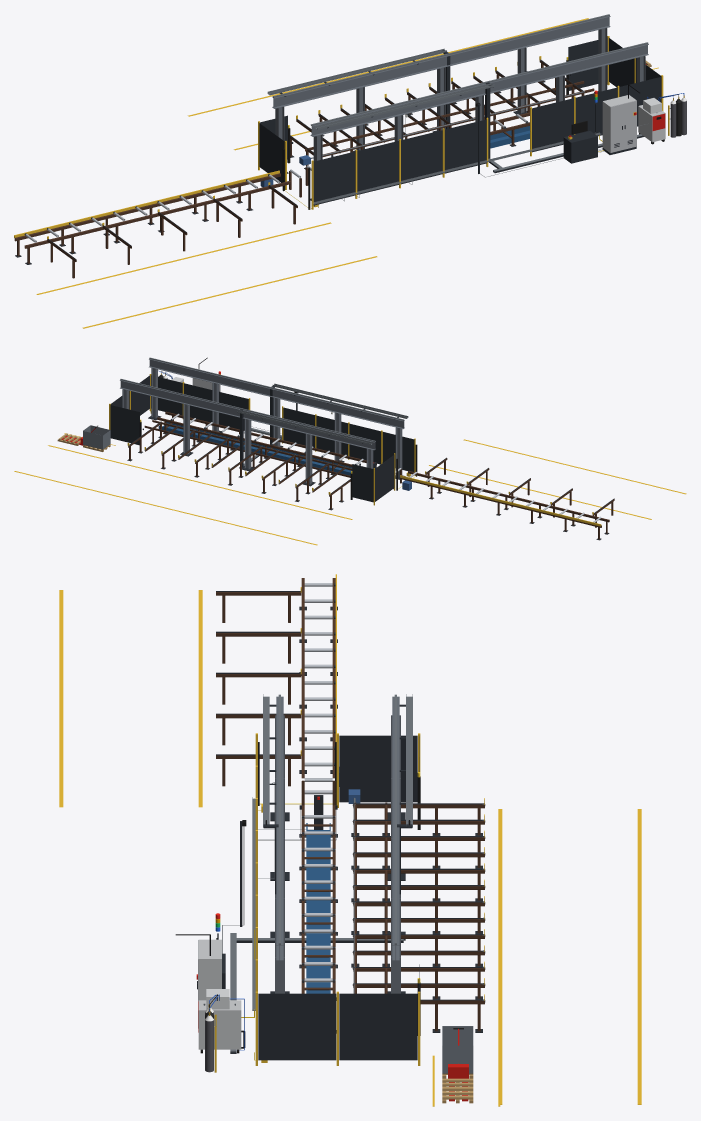
Rendered from cell.glb.
The picture shows the model from 3 angles, top to bottom: view 1: azimuth 30°, elevation 25°; view 2: azimuth 150°, elevation 25°; view 3: azimuth 270°, elevation 25°; orthographic projection. The views are drawn at different scales.
Parts seen in each view (by area): view 1: runway_back, runway_front, fence_mesh, fence_mesh_3, fence_mesh_2, fence_mesh_4, fence_mesh_5, fence_mesh_6, infeed_rail, fence_mesh_10, infeed_rail_2, fence_mesh_9 (+18 smaller); view 2: runway_front, runway_back, fence_mesh_9, fence_mesh, fence_mesh_2, fence_mesh_8, fence_mesh_4, fence_mesh_10, infeed_chain_guard, fence_mesh_5, fence_mesh_7, fence_mesh_3 (+21 smaller); view 3: fence_mesh_12, fence_mesh_11, fence_mesh_10, scrap_tray_floor, runway_front, runway_back, plasma_power_source, floor_marking_2, floor_marking, control_cabinet, floor_marking_3, floor_marking_4 (+4 smaller).
Boxes of the visible parts, x1,y1,x2,y2 form: runway_back: (272, 16, 610, 108); runway_front: (310, 44, 648, 136); fence_mesh: (313, 151, 355, 205); fence_mesh_3: (401, 130, 442, 184); fence_mesh_2: (357, 141, 398, 194); fence_mesh_4: (444, 119, 486, 173); fence_mesh_5: (532, 98, 573, 152); fence_mesh_6: (575, 87, 617, 136); infeed_rail: (24, 181, 291, 248); fence_mesh_10: (259, 123, 284, 182); infeed_rail_2: (14, 173, 280, 241); fence_mesh_9: (568, 38, 607, 90); runway_front: (149, 359, 404, 428); runway_back: (120, 380, 375, 450); fence_mesh_9: (110, 405, 139, 445); fence_mesh: (382, 432, 414, 471); fence_mesh_2: (349, 423, 380, 464); fence_mesh_8: (352, 464, 373, 502); fence_mesh_4: (283, 407, 314, 447); fence_mesh_10: (375, 455, 394, 501); infeed_chain_guard: (400, 475, 601, 526); fence_mesh_5: (219, 392, 248, 430); fence_mesh_7: (151, 375, 182, 415); fence_mesh_3: (316, 415, 347, 455); fence_mesh_12: (339, 993, 417, 1060); fence_mesh_11: (258, 993, 336, 1060); fence_mesh_10: (339, 735, 417, 802); scrap_tray_floor: (307, 830, 329, 993); runway_front: (276, 696, 283, 960); runway_back: (392, 696, 399, 960); plasma_power_source: (198, 1000, 241, 1049); floor_marking_2: (637, 809, 641, 1104); floor_marking: (498, 809, 502, 1104); control_cabinet: (198, 939, 221, 1000); floor_marking_3: (198, 590, 202, 807); floor_marking_4: (59, 590, 63, 807).
Bounding box in the file's own units: 31.6 × 3.38 × 15.05.
